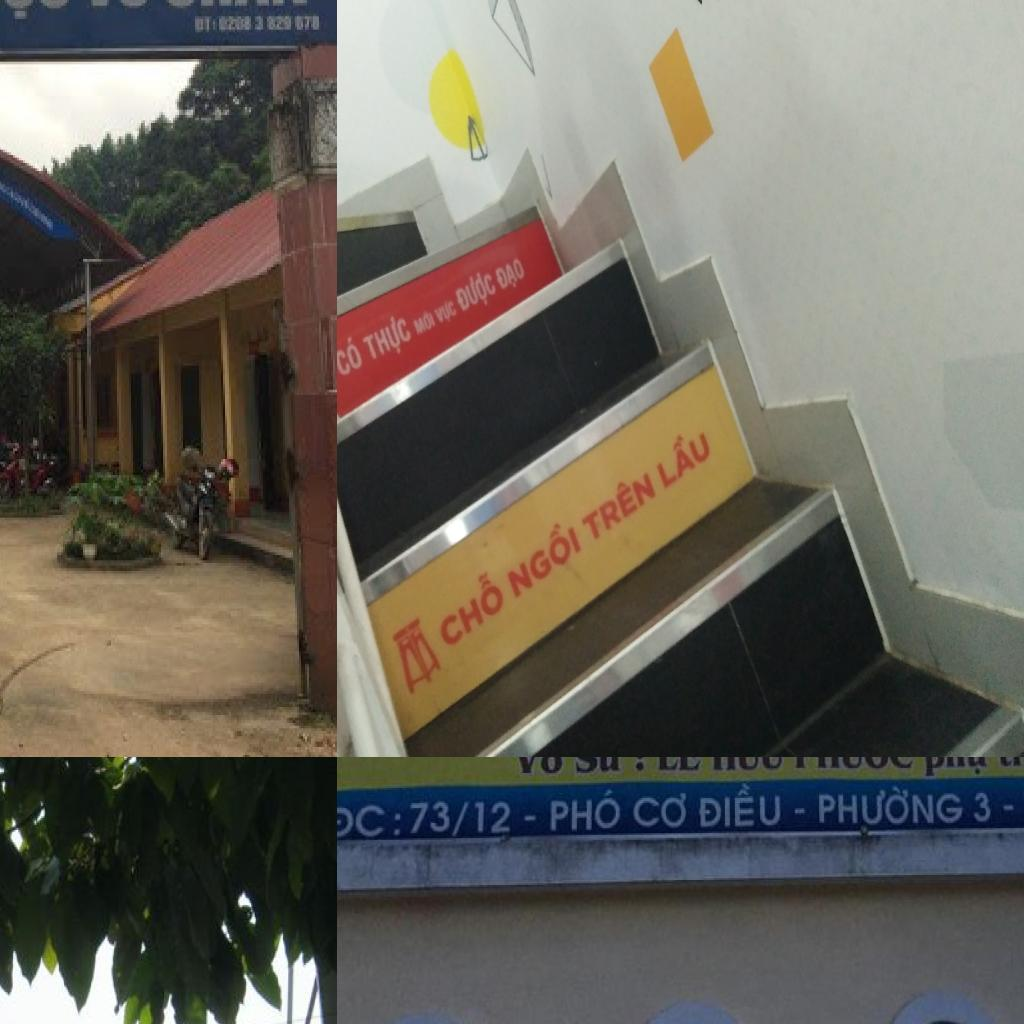text: (500, 509, 584, 601), (815, 781, 965, 830), (432, 565, 510, 654), (578, 461, 658, 547), (407, 795, 518, 843), (698, 780, 786, 834), (546, 788, 628, 838), (359, 309, 416, 369), (217, 11, 327, 40), (632, 784, 694, 834), (337, 799, 404, 844), (452, 265, 500, 319), (793, 757, 917, 776), (707, 757, 788, 781), (492, 253, 531, 299), (922, 757, 991, 783), (0, 0, 73, 24), (568, 757, 628, 781), (337, 331, 365, 380), (517, 757, 567, 783), (970, 788, 1000, 828), (81, 0, 155, 16), (410, 306, 438, 338), (432, 296, 460, 328), (657, 757, 703, 776), (189, 14, 219, 35), (522, 806, 542, 826), (792, 803, 812, 820), (1001, 800, 1020, 816), (634, 757, 649, 776)
